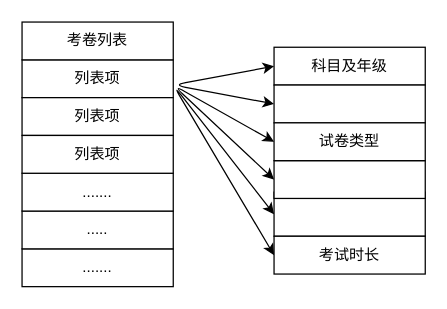
Image size: 447x309. Some labels were removed from this diagram. The shapes that lost their labels are listed below. From the top down, each one's box as (x1, y1, x2, y2) in pixels, then its label:
(273, 84, 425, 123): 对应年级
(273, 159, 425, 198): 试卷名称
(273, 191, 425, 236): 题目（一个或多个）
